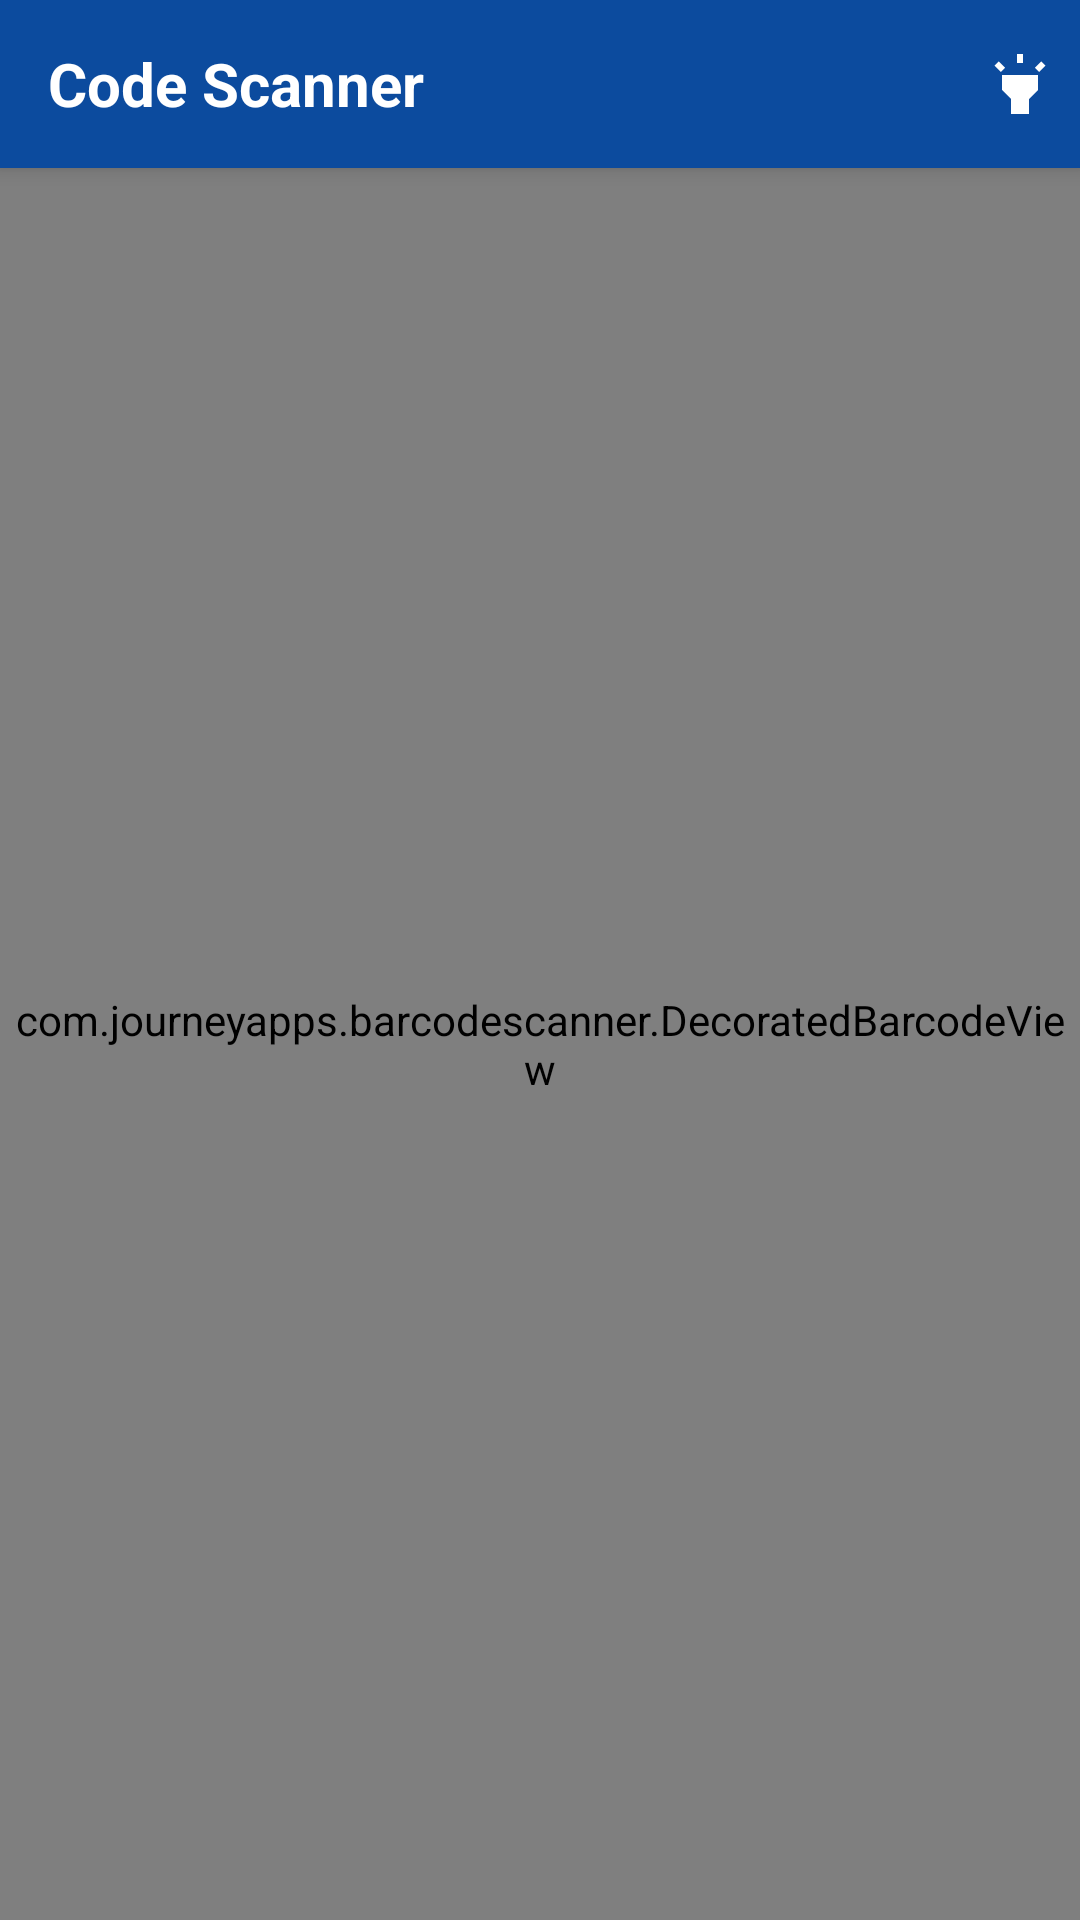

Icon click points for this 1080 x 1920 phone screenshot, format [x,y]:
highlight: [1020,84]
